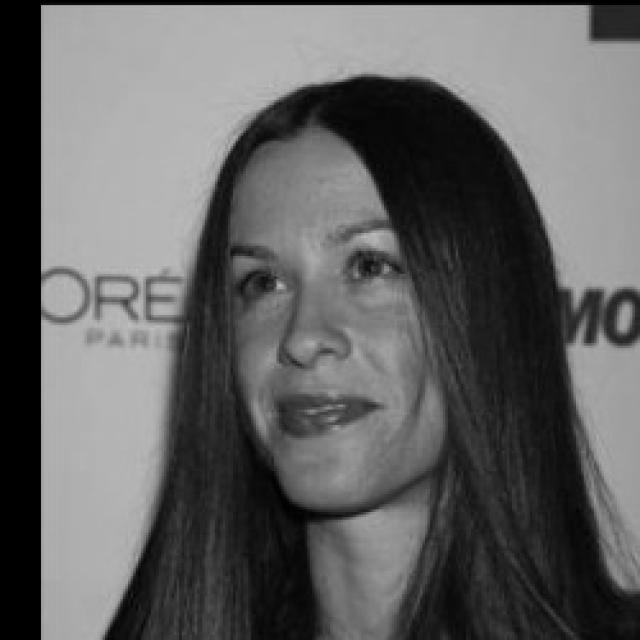real: (224, 120, 502, 520), (232, 233, 403, 306)
